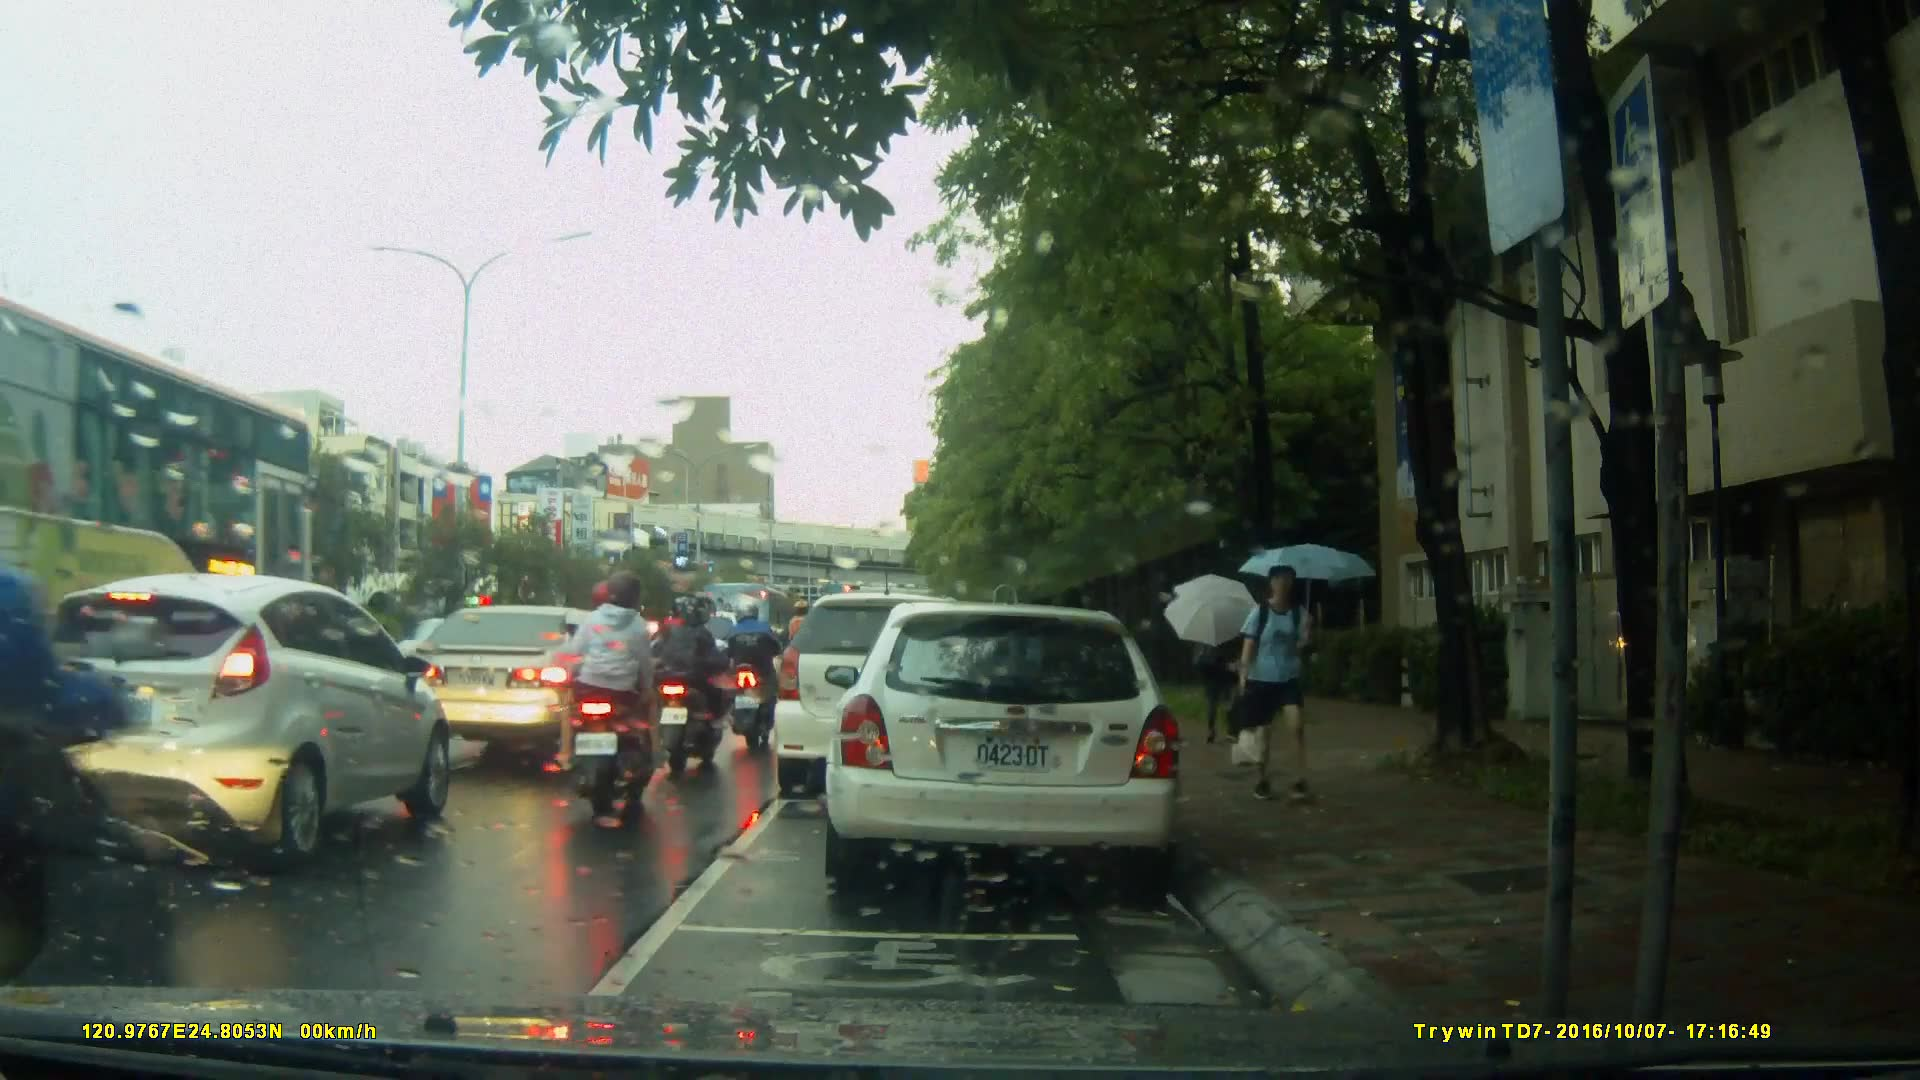pedestrian: (1226, 555, 1322, 814), (1206, 598, 1255, 741)
rider: (1, 385, 187, 1080), (557, 566, 668, 836), (657, 592, 723, 779), (723, 594, 782, 746), (786, 598, 823, 732)
vehicle: (1, 293, 321, 765), (12, 569, 454, 872), (835, 594, 1194, 898), (776, 590, 1026, 784), (383, 603, 643, 767), (603, 619, 728, 717), (704, 581, 809, 672)
